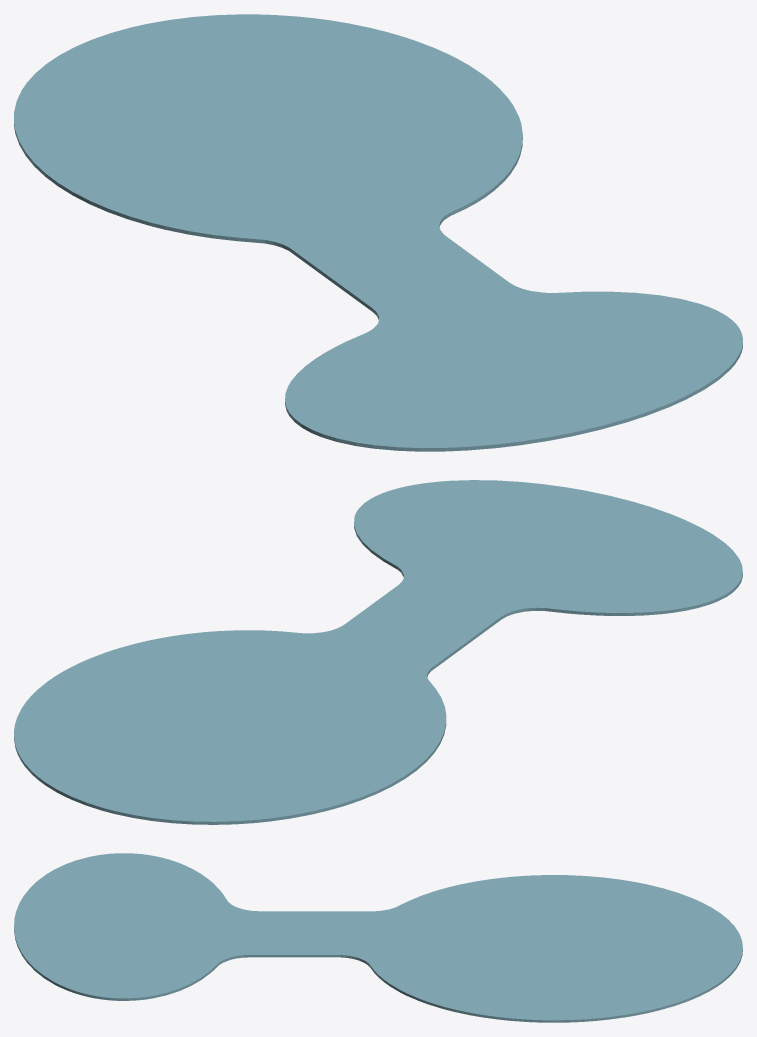
Rendered from water.glb.
3 views of the same model, one above another, from view 1: azimuth 30°, elevation 25°; view 2: azimuth 150°, elevation 25°; view 3: azimuth 270°, elevation 25° (orthographic). The views are drawn at different scales.
Visible parts, largest first — view 1: water_water; view 2: water_water; view 3: water_water.
Part boxes in pixels (bbox=[...]): water_water: bbox=[14, 14, 742, 451]; water_water: bbox=[14, 480, 742, 824]; water_water: bbox=[14, 853, 742, 1022].
Bounding box in the file's own units: 11.5 × 0.08 × 21.2.
